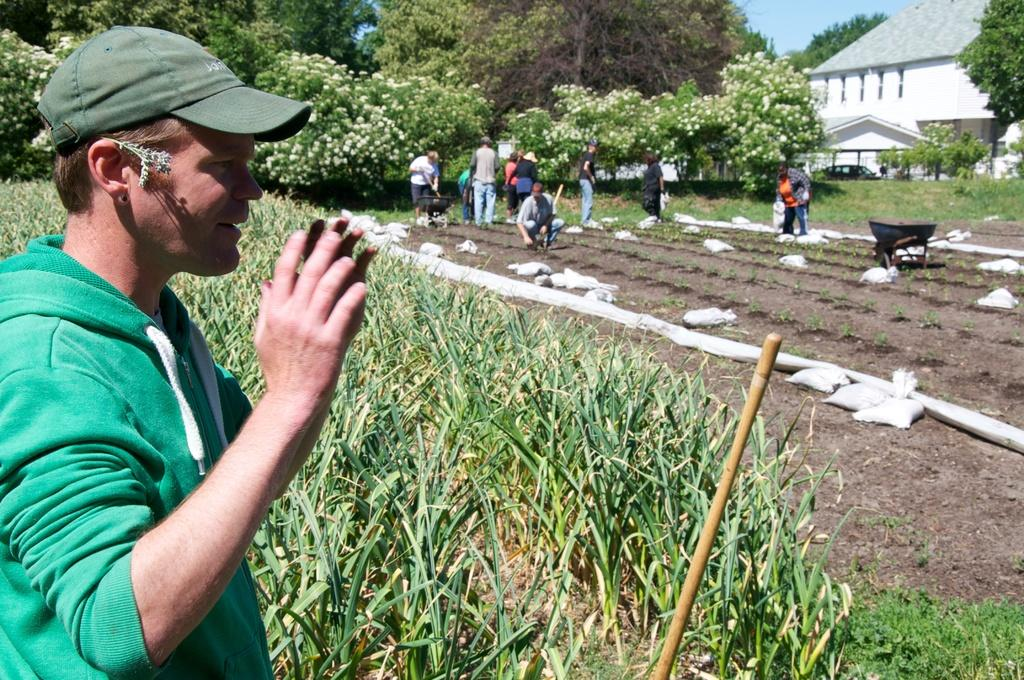Hat: (36, 24, 314, 155), (520, 150, 540, 165)
